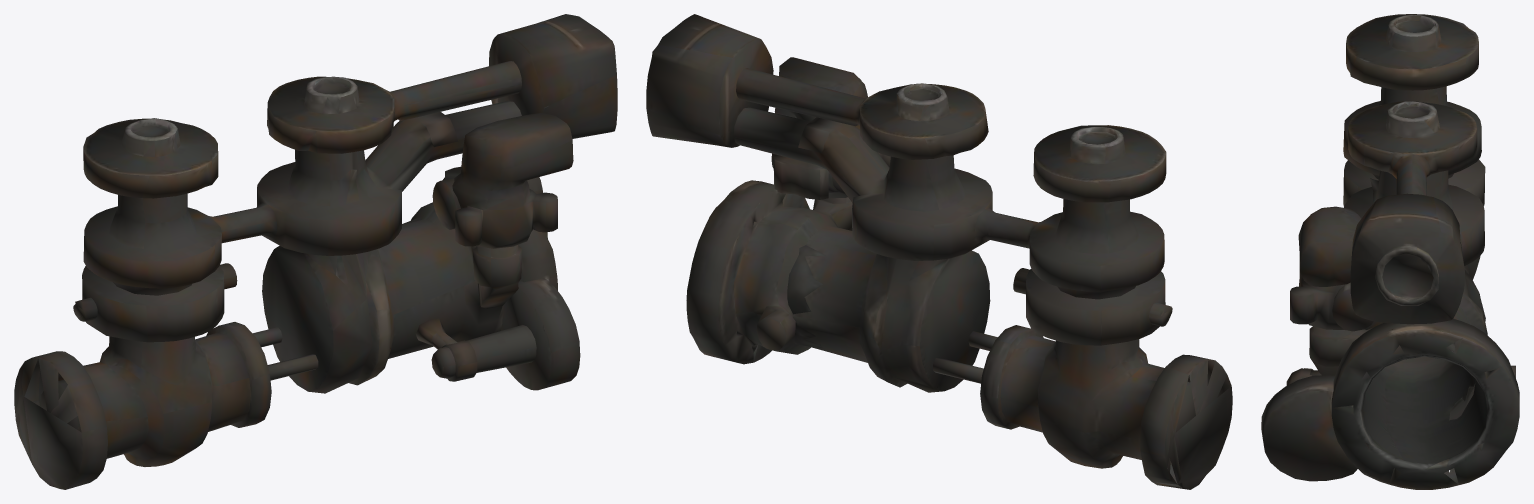
Rendered from pipe-cluster.glb.
The picture shows the model from 3 angles, left to right: view 1: azimuth 30°, elevation 25°; view 2: azimuth 150°, elevation 25°; view 3: azimuth 270°, elevation 25°; orthographic projection. The views are drawn at different scales.
Bounding box in the file's own units: 1 × 0.5872 × 0.424.
Materials: 1 (1 with a texture image).
